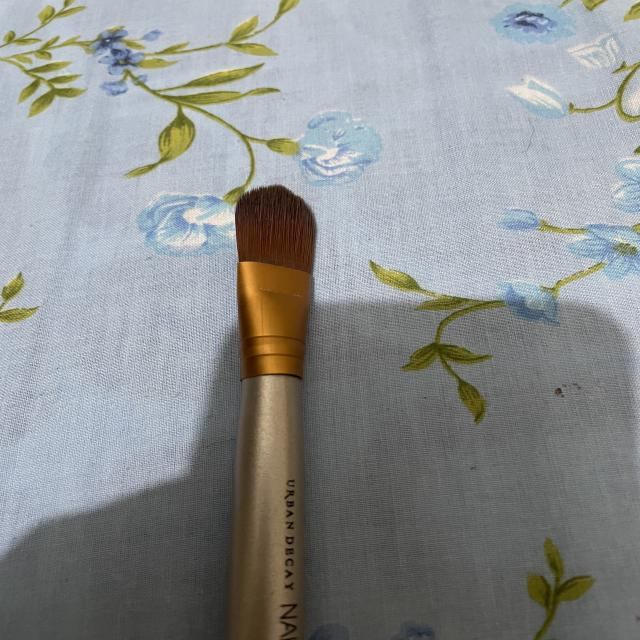brush: (174, 151, 420, 640)
